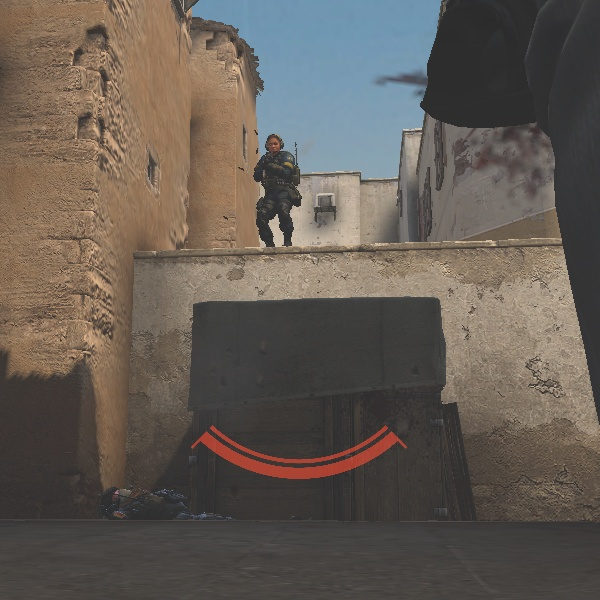ct_body: (251, 134, 301, 250)
ct_head: (265, 133, 284, 154)
